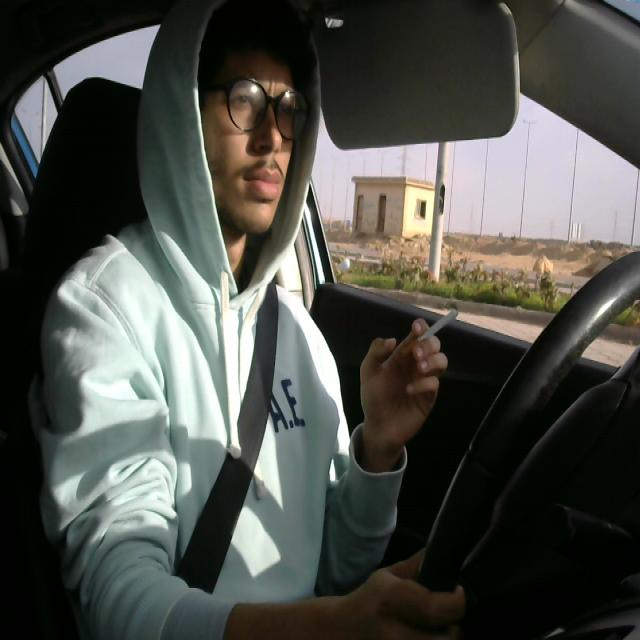smoking: (397, 303, 464, 367)
